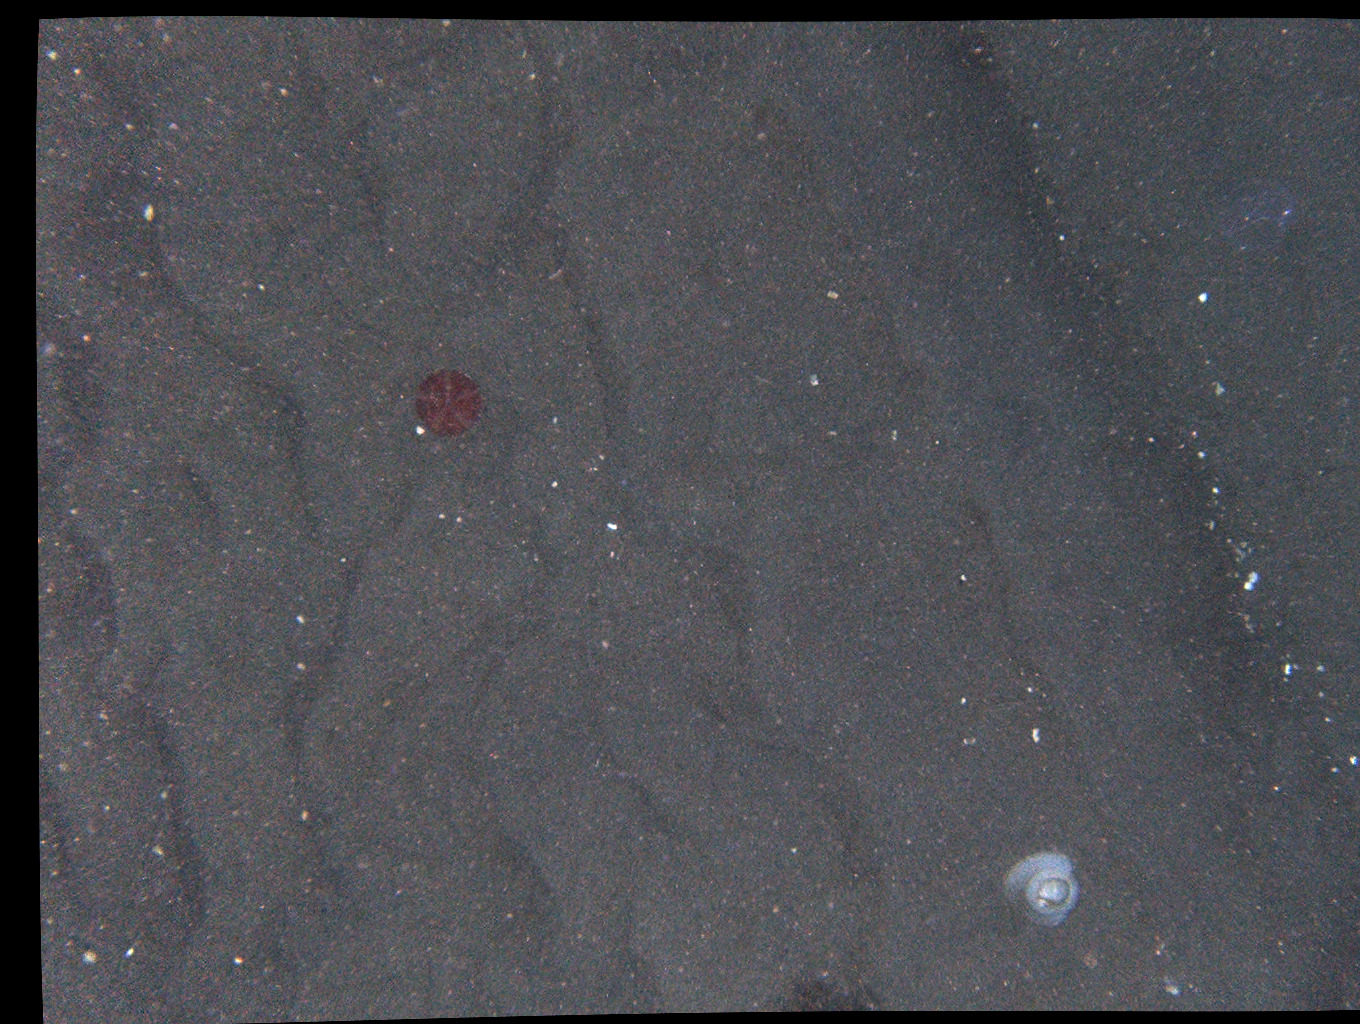Moon Snail: (1000, 845, 1087, 936)
Substrate A: (141, 75, 161, 93)
sand dollar: (414, 368, 488, 441)
